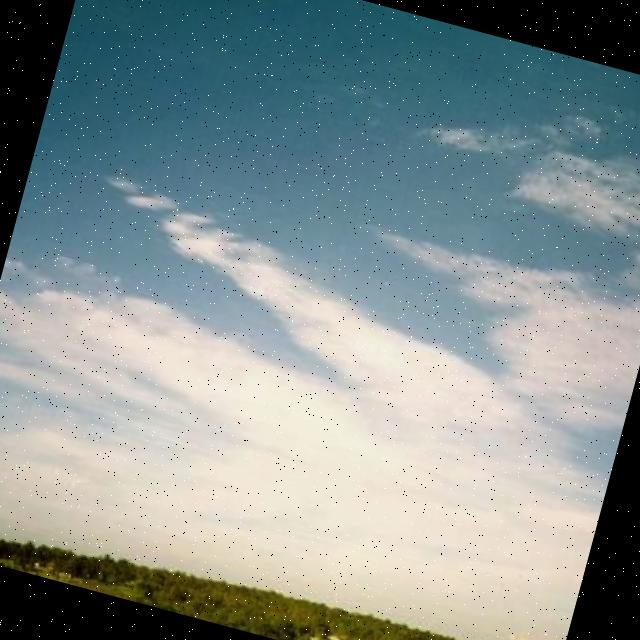Cc: (1, 73, 640, 618)
